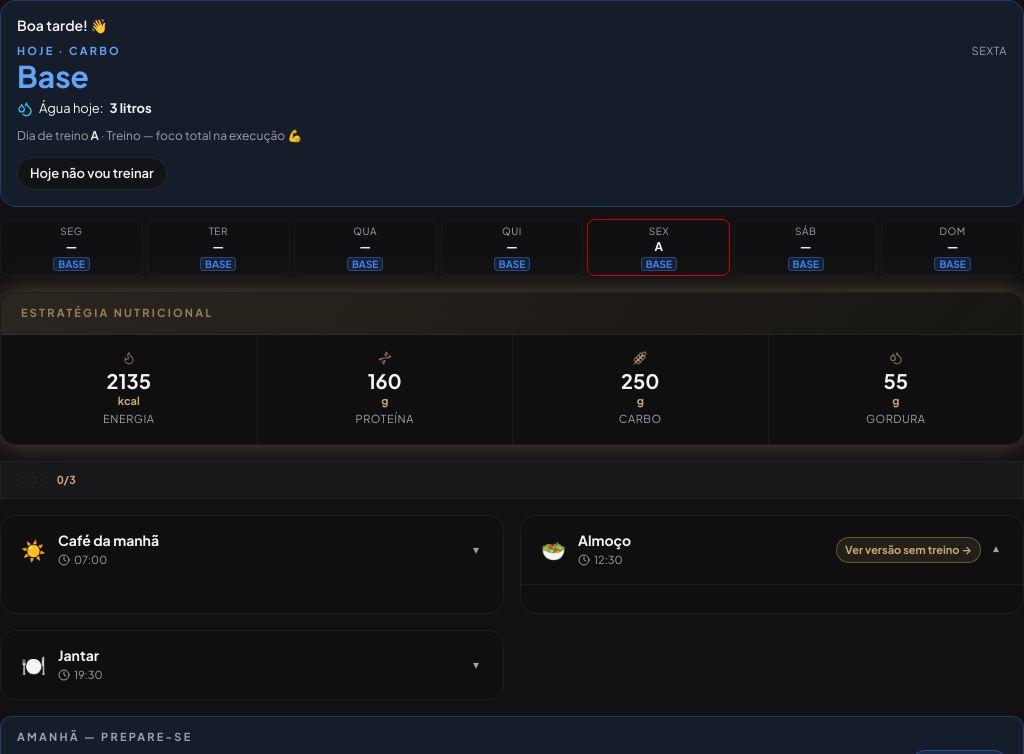
Test: StructuredMealsViewer - abertura automática da refeição atual › exibe e alterna a versão sem treino de uma refeição pareada
What coordinates should you click on to do the following:
click the button "Ver versão sem treino →"
I would click on:
 (909, 550)
Its box is [836, 537, 981, 563].
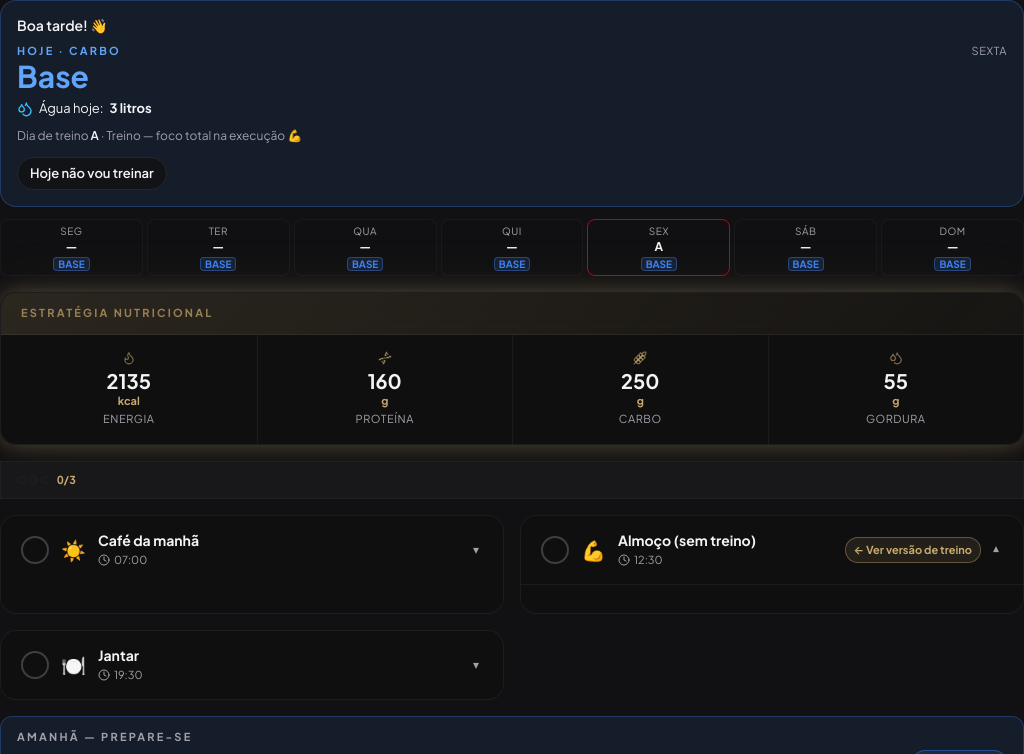
Expected: the text "Almoço (sem treino)" is shown, [618, 532, 756, 550]
Expected: the button "← Ver versão de treino" is shown, [844, 537, 981, 563]
